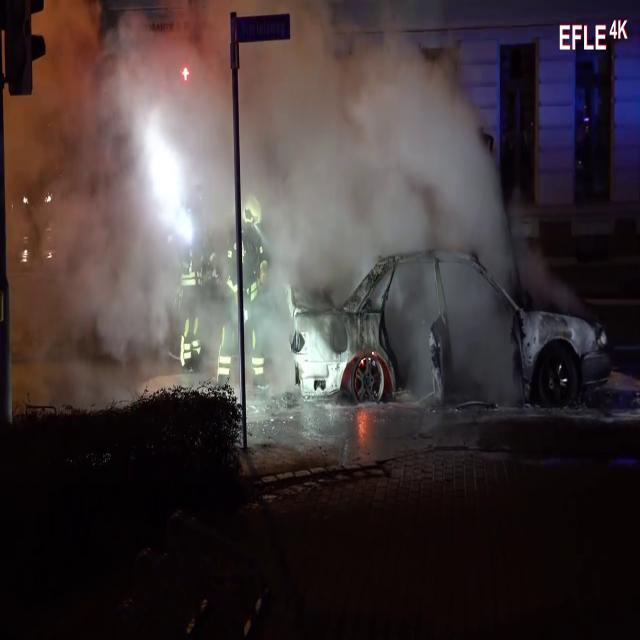Smoke: (4, 0, 524, 386), (5, 1, 162, 395)
